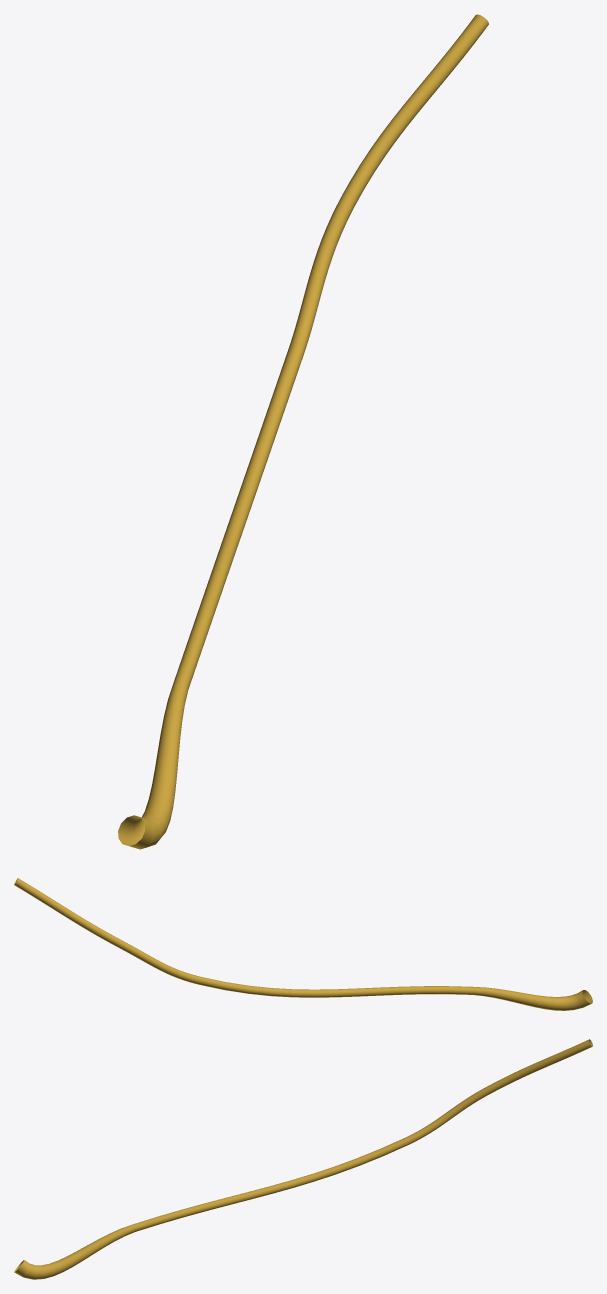
The picture shows the model from 3 angles, top to bottom: view 1: azimuth 30°, elevation 25°; view 2: azimuth 150°, elevation 25°; view 3: azimuth 330°, elevation 25°; orthographic projection. The views are drawn at different scales.
Parts seen in each view (by area): view 1: 左侧腋神经; view 2: 左侧腋神经; view 3: 左侧腋神经.
Part boxes in pixels (<box>): 左侧腋神经: <box>118,14,488,849</box>; 左侧腋神经: <box>14,878,592,1010</box>; 左侧腋神经: <box>14,1039,592,1279</box>.
Size of the model in its own units: 0.0791 by 0.0369 by 0.0736.
